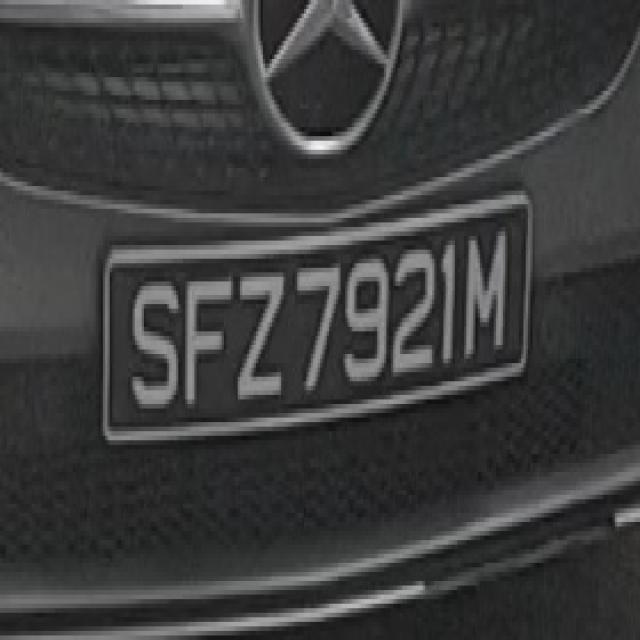1: (444, 218, 457, 372)
2: (391, 240, 441, 390)
7: (288, 255, 345, 400)
9: (336, 245, 393, 400)
F: (183, 258, 235, 418)
M: (459, 209, 510, 381)
S: (128, 268, 183, 408)
Z: (228, 259, 292, 413)
